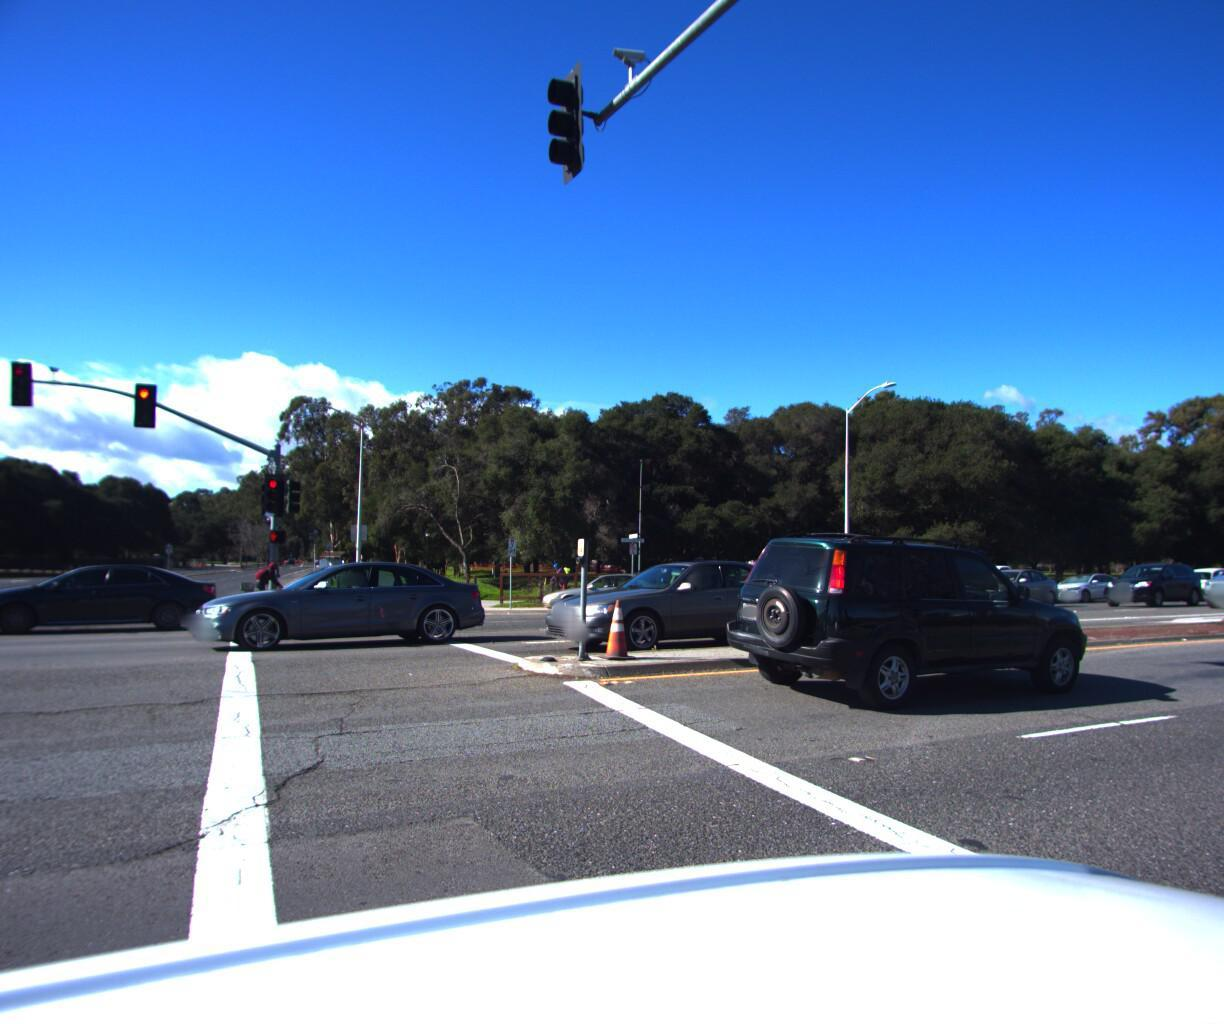bicycle: (209, 548, 286, 612), (546, 558, 590, 598)
car: (710, 516, 1117, 714), (523, 560, 832, 660), (179, 561, 482, 656), (799, 545, 1023, 630), (1094, 558, 1217, 603), (541, 570, 666, 614), (929, 558, 1052, 601), (959, 560, 1082, 600), (1040, 567, 1128, 600), (1189, 558, 1224, 610)
